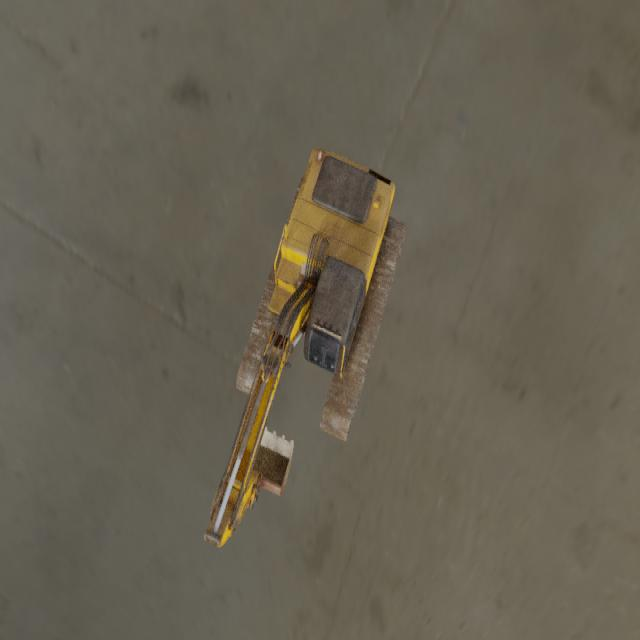excavator: (203, 146, 407, 546)
